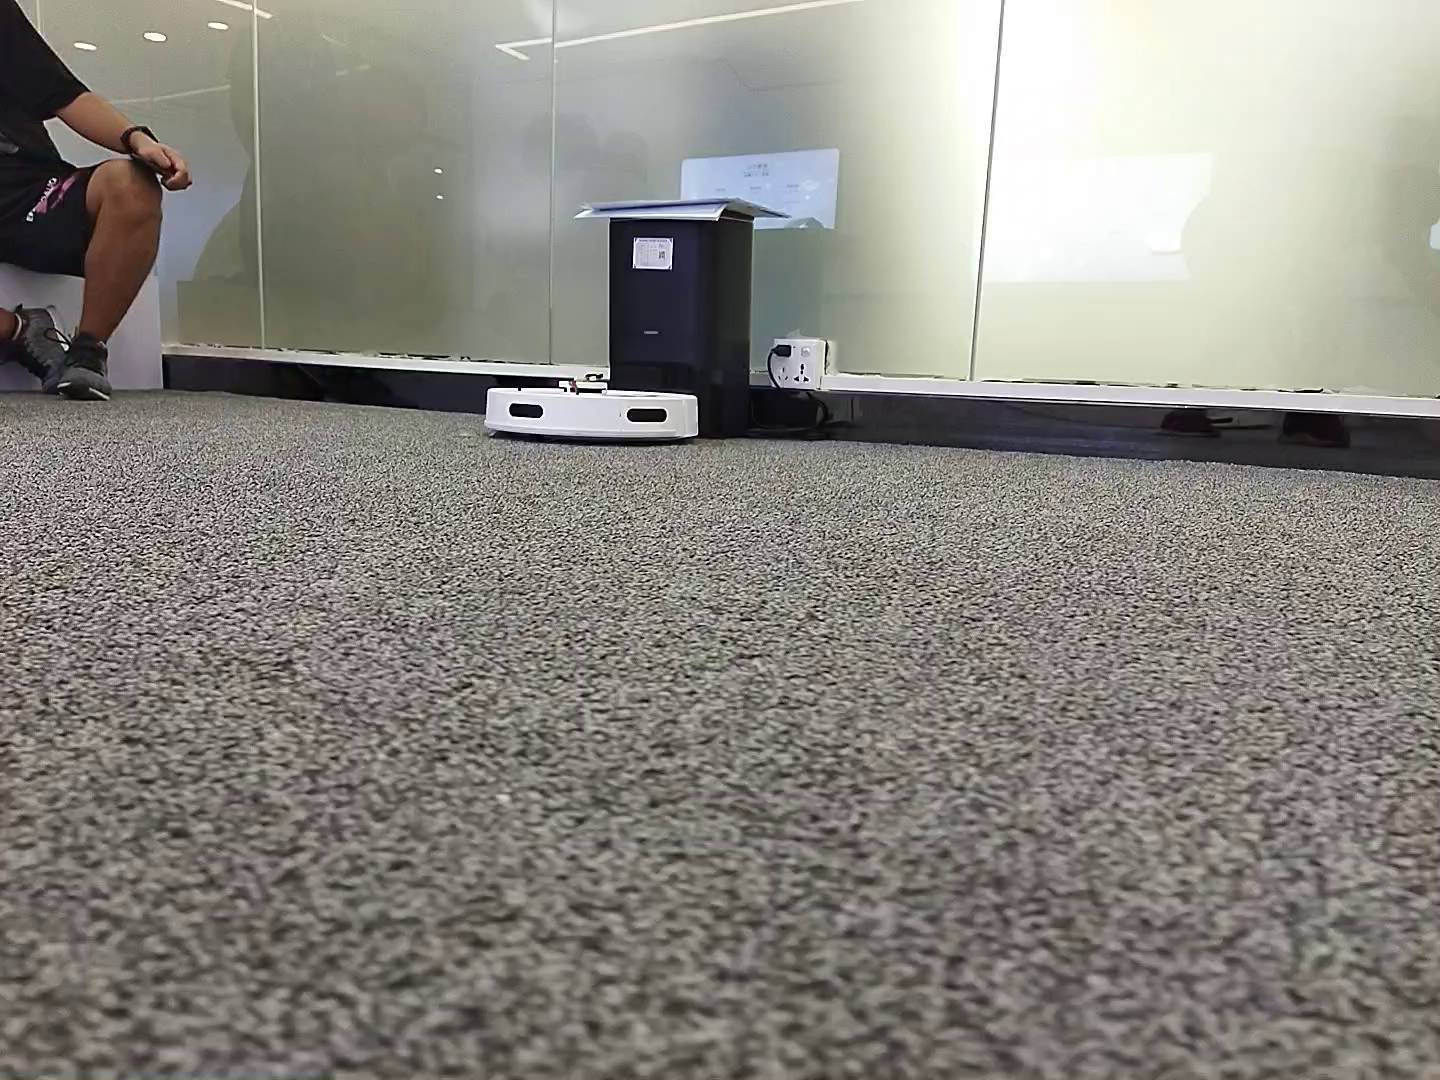dust collecting barrel: (607, 211, 755, 442)
